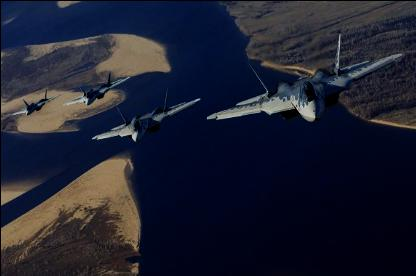SR71: (204, 32, 402, 122), (89, 86, 199, 141), (60, 68, 130, 106), (11, 88, 61, 114)
